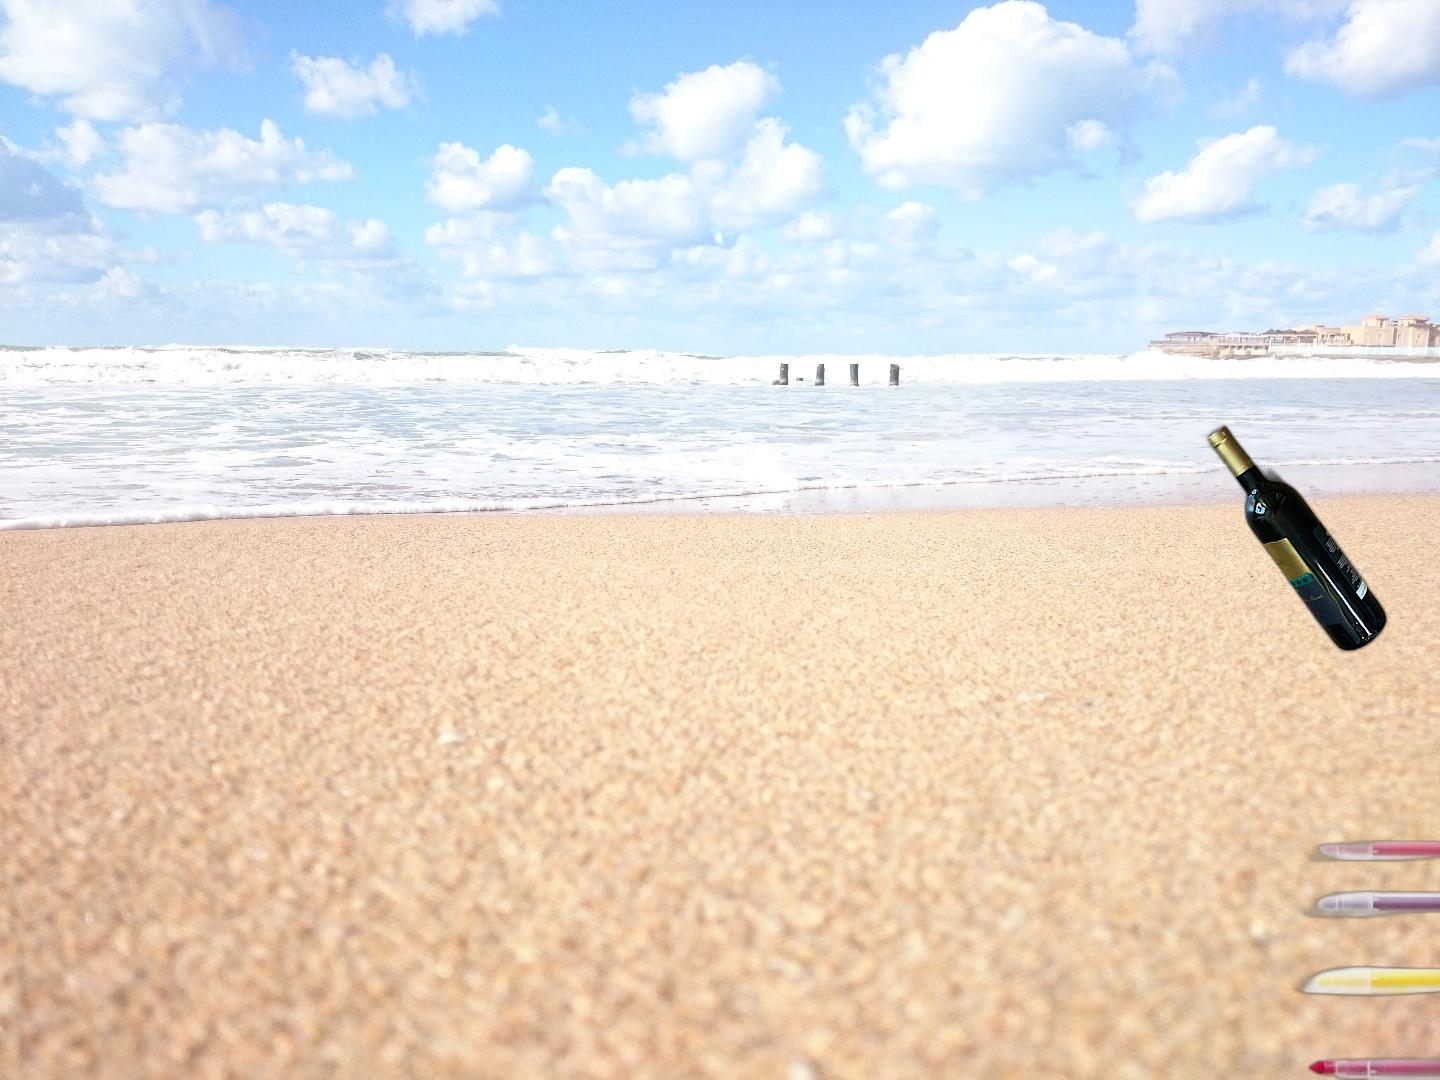glass: (1204, 420, 1391, 661)
penholder: (1291, 832, 1440, 1080)
